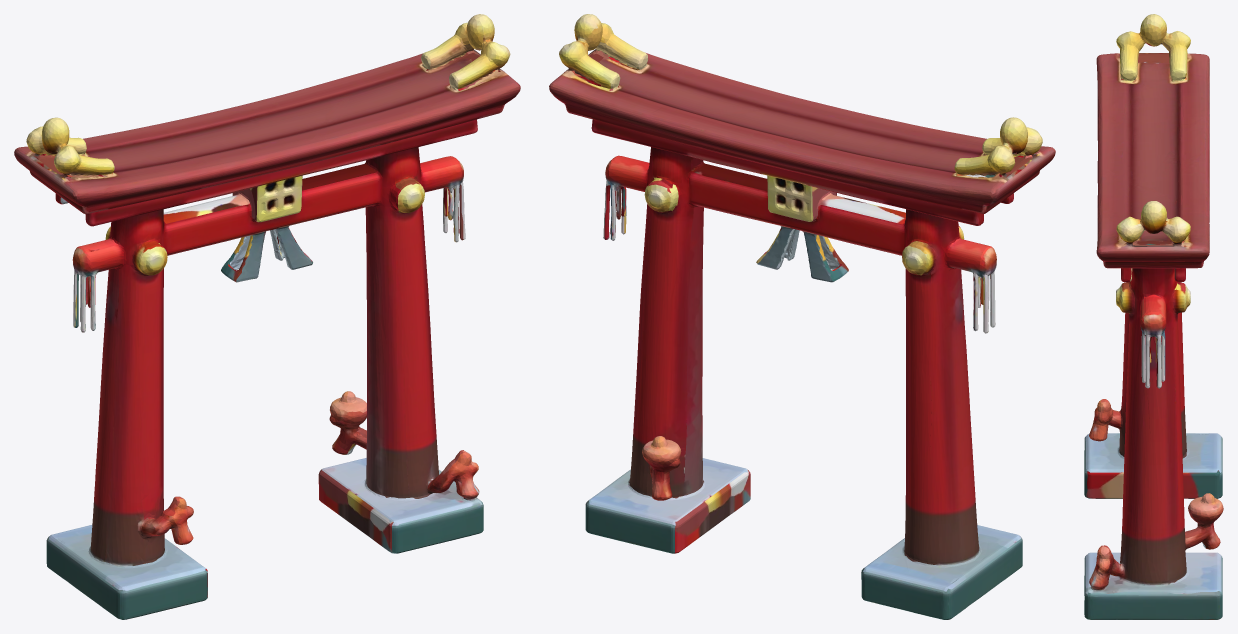
Rendered from inazuma_torii_gate.glb.
3 views of the same model, side by side, from view 1: azimuth 30°, elevation 25°; view 2: azimuth 150°, elevation 25°; view 3: azimuth 270°, elevation 25° (orthographic). The views are drawn at different scales.
Visible parts, largest first — view 1: tmpfe4fdnqa.ply; view 2: tmpfe4fdnqa.ply; view 3: tmpfe4fdnqa.ply.
Boxes of the visible parts, box(x1,y1,x2,y2) form: tmpfe4fdnqa.ply: box(14, 14, 520, 619); tmpfe4fdnqa.ply: box(549, 14, 1055, 619); tmpfe4fdnqa.ply: box(1084, 14, 1223, 619).
Bounding box in the file's own units: 1.97 × 1.99 × 0.5806.
1 material, 1 textured.
